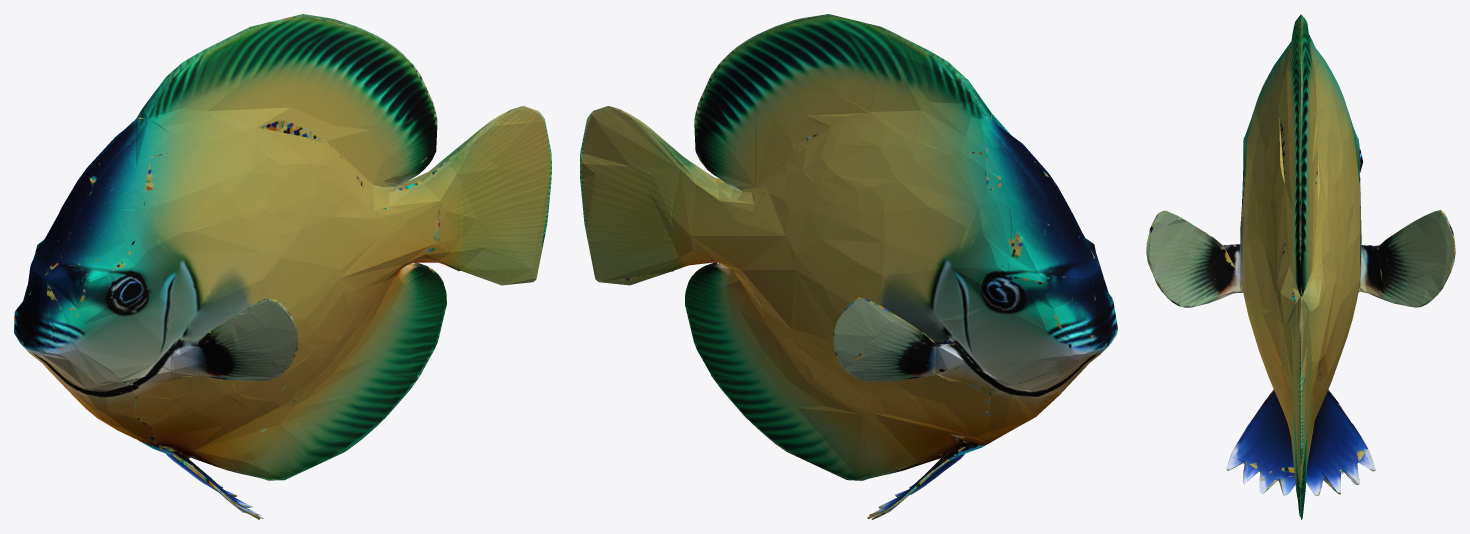
Rendered from fish_0023_smpl23_resized.glb.
The picture shows the model from 3 angles, left to right: view 1: azimuth 30°, elevation 25°; view 2: azimuth 150°, elevation 25°; view 3: azimuth 270°, elevation 25°; orthographic projection.
Parts seen in each view (by area): view 1: world; view 2: world; view 3: world.
Part boxes in pixels (<box>): world: <box>14,14,551,519</box>; world: <box>580,14,1117,519</box>; world: <box>1146,14,1455,519</box>.
Size of the model in its own units: 1.99 by 1.71 by 1.02.
Materials: 1 (1 with a texture image).
